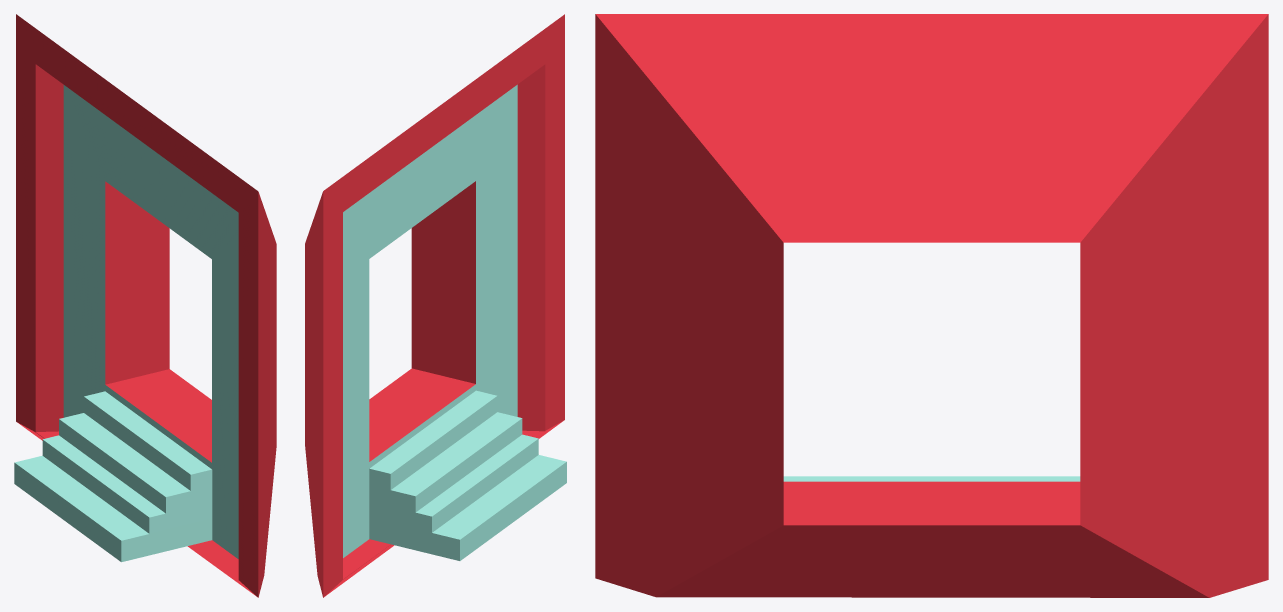
File: Door.fbx
The picture shows the model from 3 angles, left to right: view 1: azimuth 30°, elevation 25°; view 2: azimuth 150°, elevation 25°; view 3: azimuth 270°, elevation 25°; orthographic projection. The views are drawn at different scales.
Parts seen in each view (by area): view 1: Door; view 2: Door; view 3: Door.
Boxes of the visible parts, box(x1,y1,x2,y2) form: Door: box(14, 14, 276, 597); Door: box(305, 14, 566, 597); Door: box(595, 14, 1268, 597).
Bounding box in the file's own units: 353 × 885 × 954.
